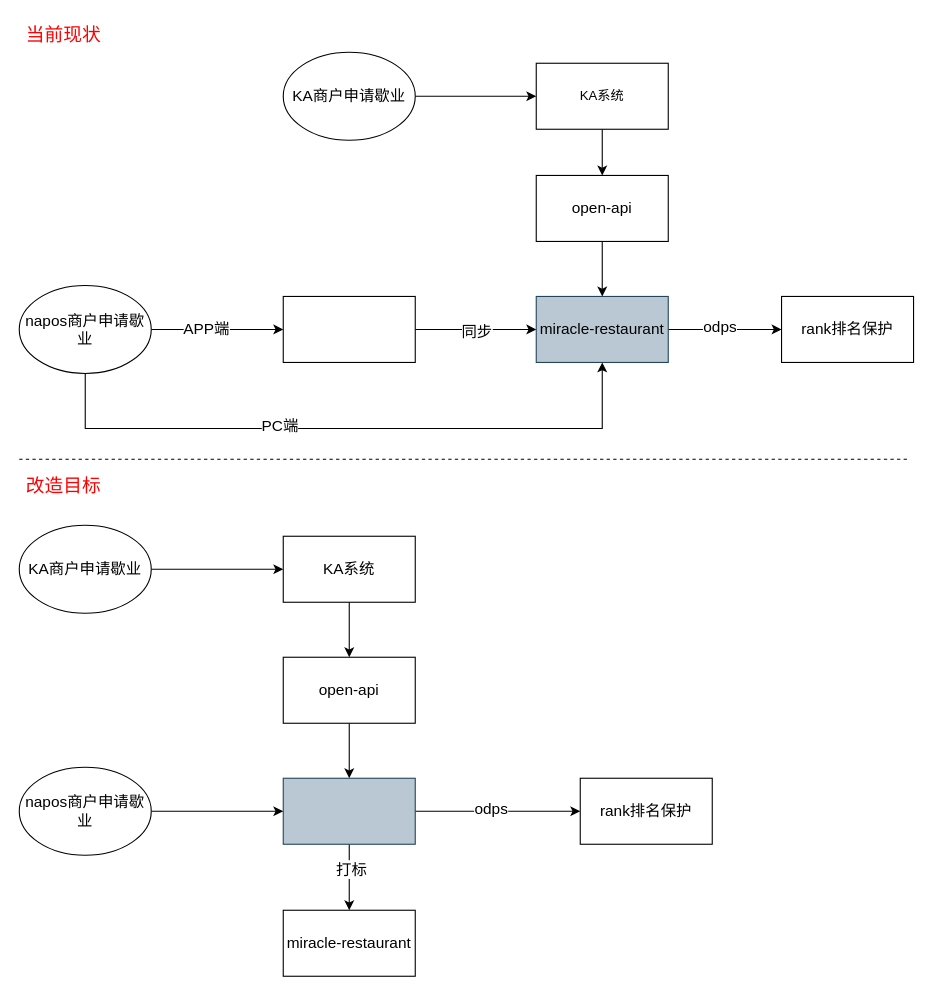
This 933x996 diagram has some shape labels left out. The box of each missing label's shape, as (x1, y1, x2, y2) in pixels:
shop-growth: (282, 295, 415, 362)
shop.operation: (282, 777, 415, 844)
